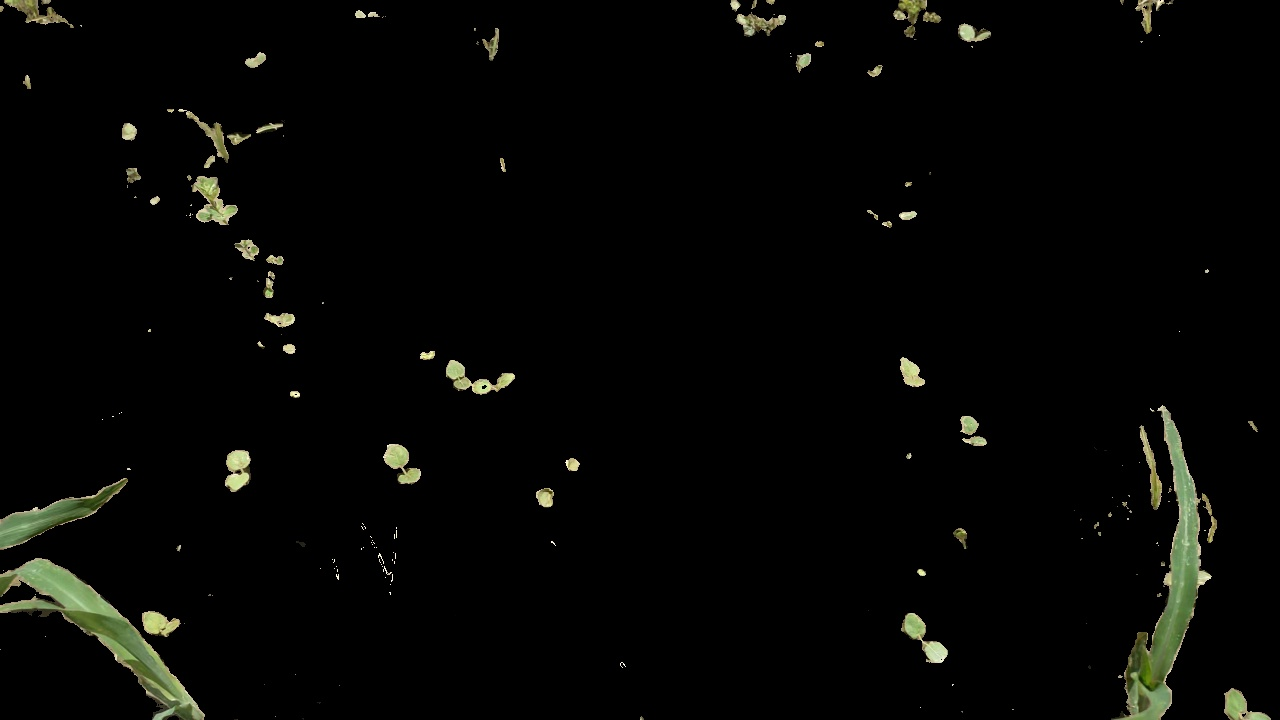crop: (1, 431, 204, 715), (1074, 388, 1215, 720)
weed: (161, 99, 285, 165), (444, 351, 522, 401), (900, 608, 956, 669), (190, 178, 246, 230), (1216, 677, 1280, 720), (890, 1, 950, 41), (379, 433, 424, 485), (220, 441, 258, 494), (958, 395, 996, 446), (733, 11, 790, 38), (136, 608, 183, 639), (897, 349, 931, 391), (957, 17, 992, 55), (258, 308, 300, 330), (534, 482, 565, 510), (227, 241, 263, 260)
